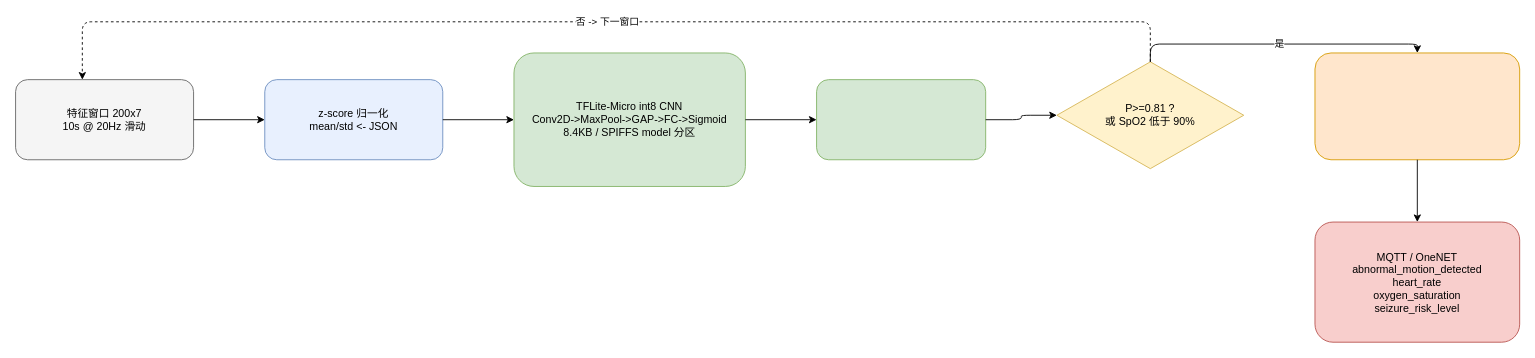
Image size: 1535x358. Some labels were removed from this diagram. The box of each missing label's shape, as (x1, y1, x2, y2) in pixels:
输出概率 P in [0,1]: (816, 79, 986, 160)
风险等级 0~100 Round(P*100) SpO2 低于 90 强制 >=90: (1314, 52, 1520, 160)
